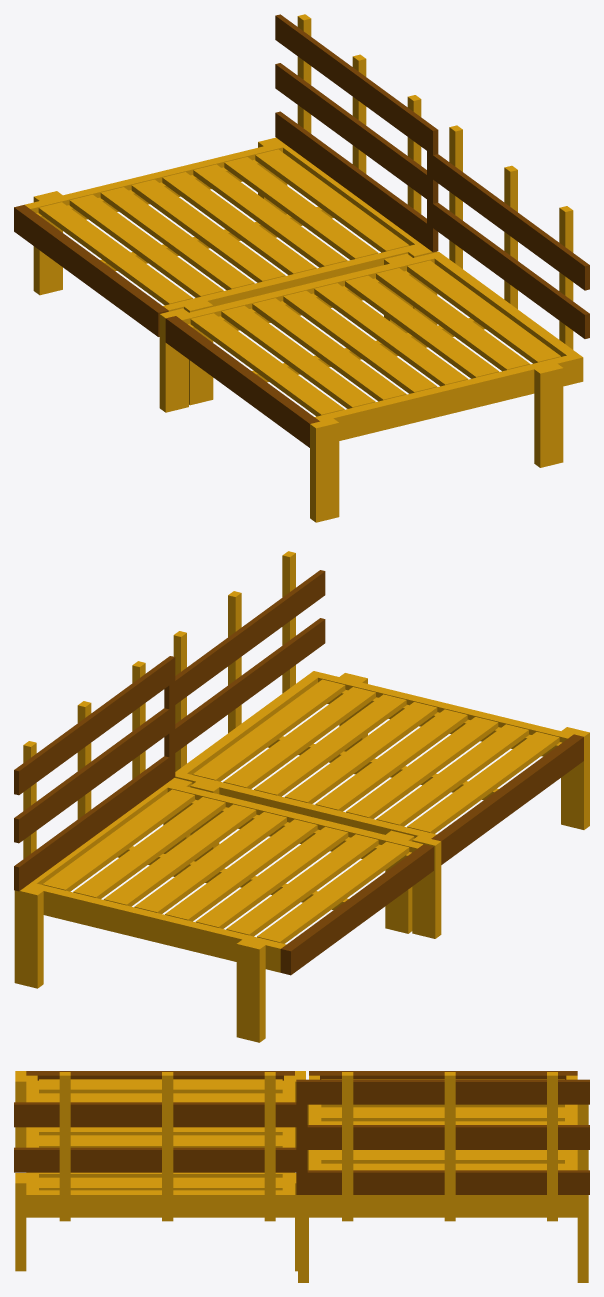
The model's file is bed2.glb.
3 views of the same model, one above another, from view 1: azimuth 30°, elevation 25°; view 2: azimuth 150°, elevation 25°; view 3: azimuth 270°, elevation 25° (orthographic). The views are drawn at different scales.
Visible parts, largest first — view 1: girder2.4, girder1.1, girder2.1, board1.3, board2.1, board2.2, board1.2, board1.1, beam1.4, beam2.1, beam1.1, beam1.2 (+28 smaller); view 2: girder1.3, girder1.1, girder2.1, board1.3, board1.1, board1.2, board2.1, board2.2, beam1.3, beam1.6, beam2.8, beam1.4 (+28 smaller); view 3: board2.2, board1.3, board2.1, girder2.2, board1.1, board1.2, girder1.2, beam2.1, beam1.3, beam2.8, beam1.6, beam2.5 (+23 smaller).
Boxes of the visible parts, x1,y1,x2,y2 form: girder2.4: (314, 355, 572, 440); girder1.1: (14, 205, 168, 336); girder2.1: (165, 316, 319, 447); board1.3: (275, 14, 438, 155); board2.1: (427, 199, 589, 338); board2.2: (427, 151, 589, 290); board1.2: (275, 63, 438, 203); board1.1: (275, 111, 438, 252); beam1.4: (131, 179, 285, 282); beam2.1: (190, 313, 344, 416); beam1.1: (38, 202, 192, 305); beam1.2: (69, 194, 223, 297); girder1.3: (31, 883, 286, 972); girder1.1: (280, 844, 433, 975); girder2.1: (431, 734, 583, 864); board1.3: (14, 656, 175, 795); board1.1: (14, 753, 175, 891); board1.2: (14, 705, 175, 843); board2.1: (164, 618, 325, 757); board2.2: (164, 570, 325, 709); beam1.3: (195, 826, 348, 928); beam1.6: (103, 804, 256, 906); beam2.8: (192, 679, 345, 781); beam1.4: (165, 819, 317, 921); board2.2: (14, 1102, 307, 1127); board1.3: (296, 1079, 589, 1104); board2.1: (14, 1147, 307, 1172); girder2.2: (26, 1190, 294, 1217); board1.1: (296, 1170, 589, 1194); board1.2: (296, 1125, 589, 1149); girder1.2: (309, 1195, 577, 1217); beam2.1: (39, 1079, 282, 1093); beam1.3: (321, 1107, 564, 1121); beam2.8: (39, 1177, 282, 1190); beam1.6: (321, 1150, 564, 1163); beam2.5: (39, 1135, 282, 1147).
Bounding box in the file's own units: 1.09 × 0.84 × 2.08.
